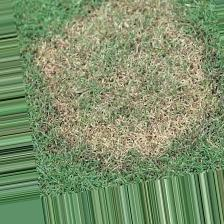patch: (67, 108, 147, 154), (172, 38, 197, 116), (45, 49, 73, 103), (68, 22, 101, 47), (154, 116, 172, 153)
